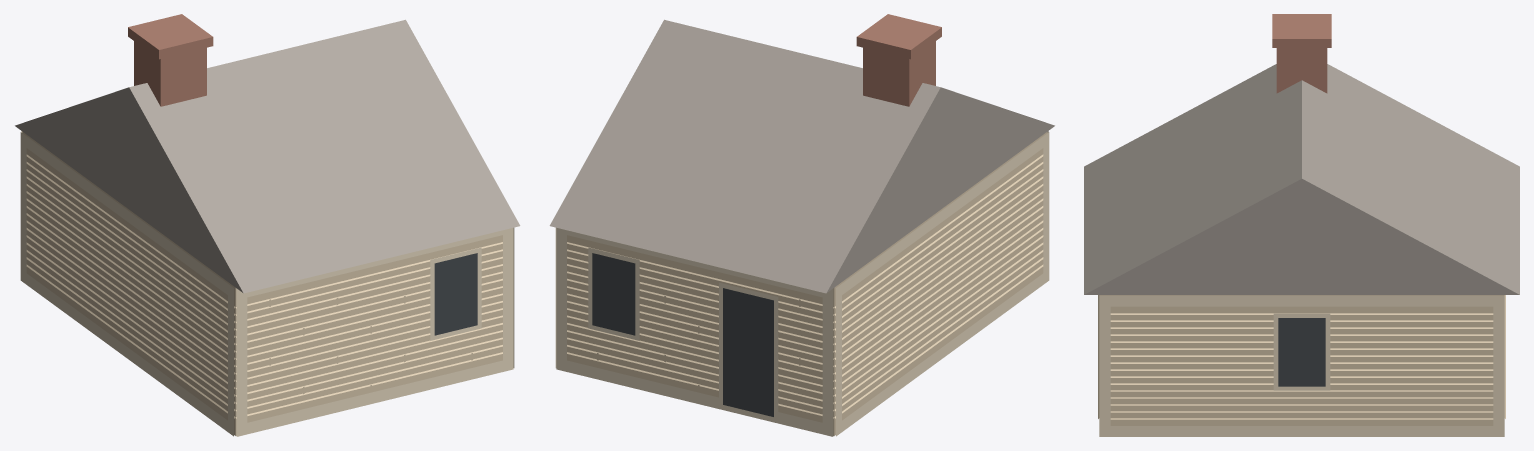
Rendered from recon_1835_blk_lake_market_d3_03__inferred_1835.glb.
The picture shows the model from 3 angles, left to right: view 1: azimuth 30°, elevation 25°; view 2: azimuth 150°, elevation 25°; view 3: azimuth 270°, elevation 25°; orthographic projection. The views are drawn at different scales.
Parts seen in each view (by area): view 1: recon_1835_blk_lake_market_d3_03__inferred_1835; view 2: recon_1835_blk_lake_market_d3_03__inferred_1835; view 3: recon_1835_blk_lake_market_d3_03__inferred_1835.
Part boxes in pixels (x1,y1,x2,y2): recon_1835_blk_lake_market_d3_03__inferred_1835: [15, 14, 520, 436]; recon_1835_blk_lake_market_d3_03__inferred_1835: [549, 14, 1054, 436]; recon_1835_blk_lake_market_d3_03__inferred_1835: [1084, 14, 1519, 436].
Bounding box in the file's own units: 5.09 × 5.47 × 7.19.
